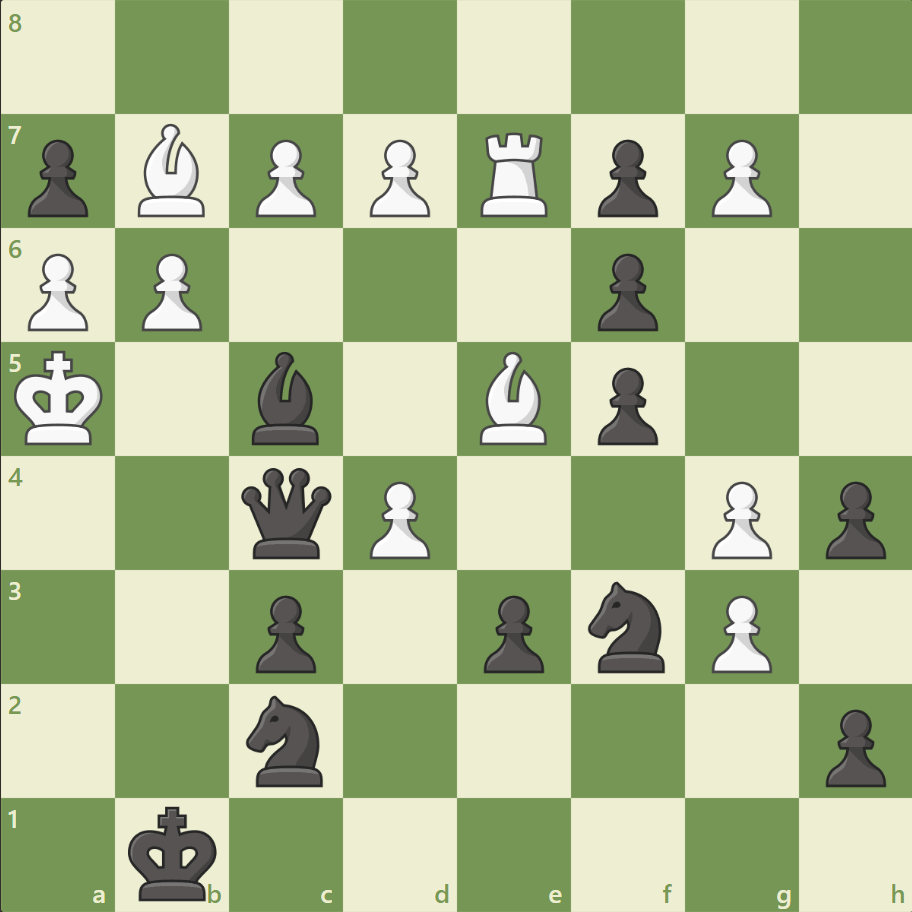B: (131, 120, 215, 222), (471, 347, 555, 449)
K: (11, 344, 111, 452)
P: (247, 132, 322, 223), (701, 132, 776, 223), (20, 246, 95, 337), (133, 246, 208, 337), (701, 473, 776, 564), (701, 586, 776, 677), (361, 132, 435, 223), (361, 473, 435, 564)
R: (473, 125, 556, 222)
b: (244, 347, 328, 449)
k: (124, 798, 224, 906)
n: (238, 688, 335, 791), (579, 575, 676, 677)
p: (20, 132, 95, 223), (247, 586, 322, 677), (474, 586, 549, 677), (588, 132, 662, 223), (588, 246, 662, 337), (588, 359, 662, 450), (815, 473, 889, 564), (815, 700, 889, 791)
q: (237, 463, 336, 562)
